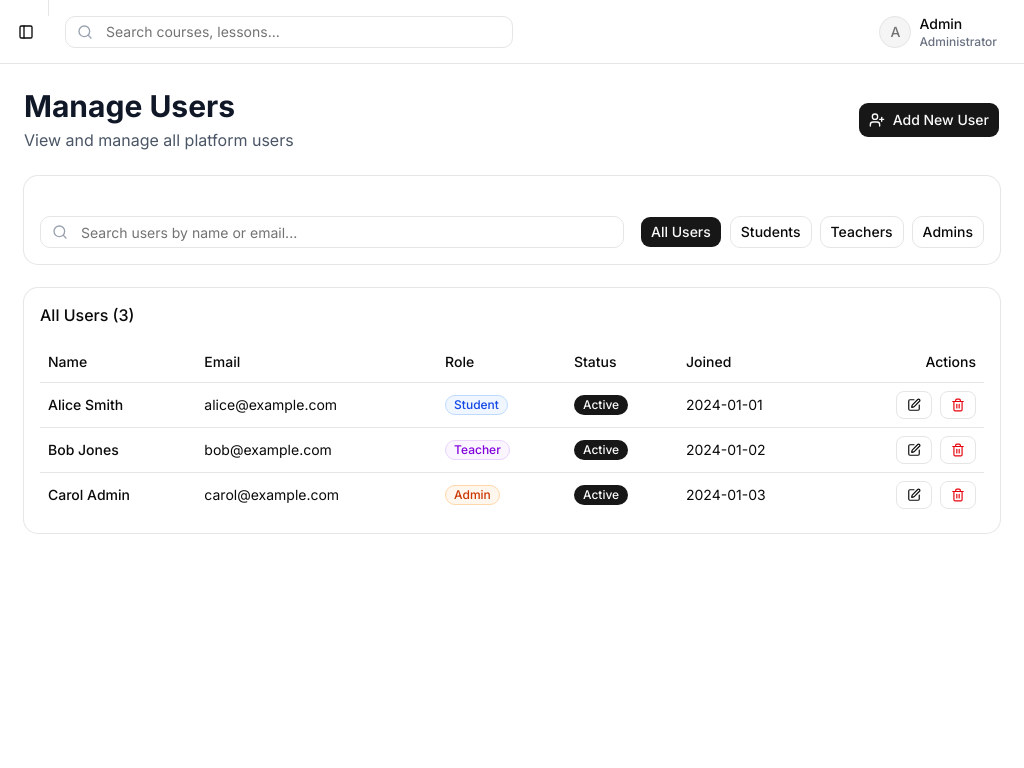
Admin Users Page - Delete (2.6, 2.7) › removes user from list after successful delete (P1.2.3)
Check: the text "Alice Smith" is shown, box [40, 382, 196, 427]
Click delete button for Alice
Click the button named "delete alice smith": click(958, 404) [940, 390, 976, 418]
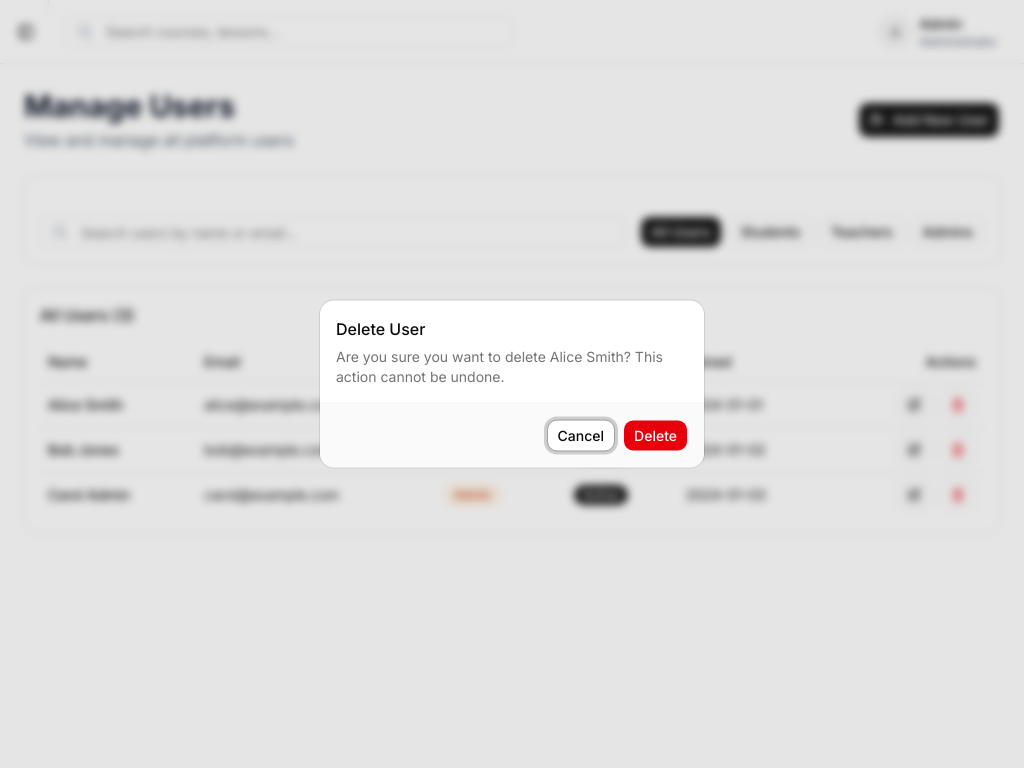
The AlertDialogAction with "Delete" text
Click the button "Delete": click(656, 436) [623, 420, 688, 452]
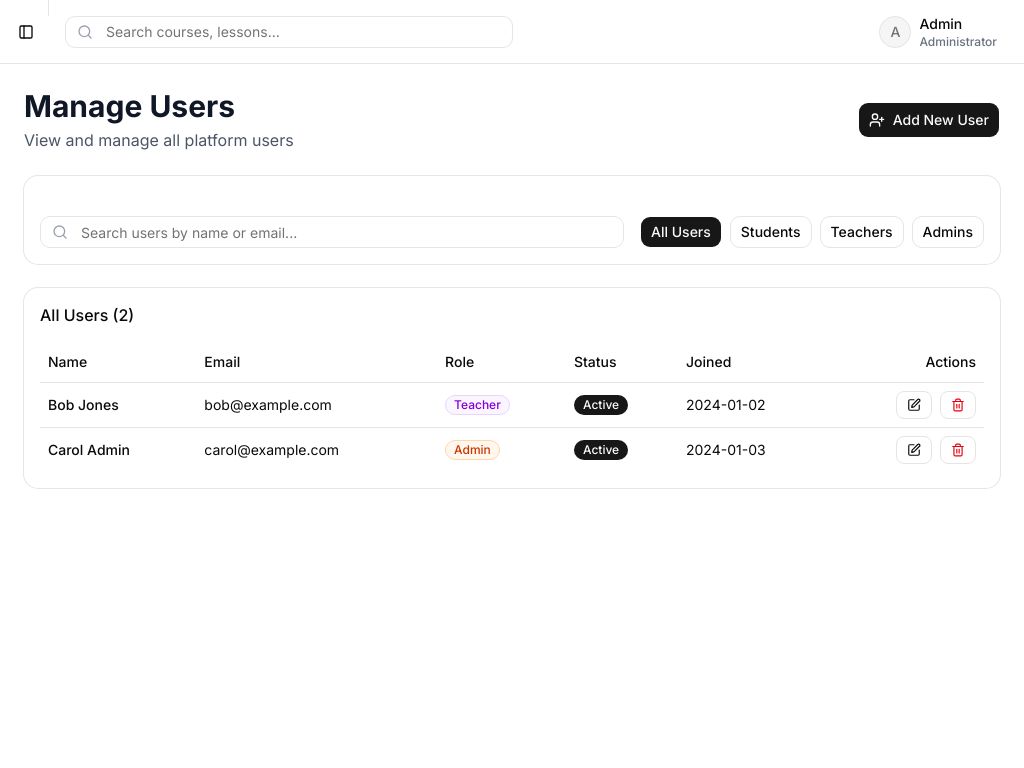
Check: the text "Alice Smith" is gone
